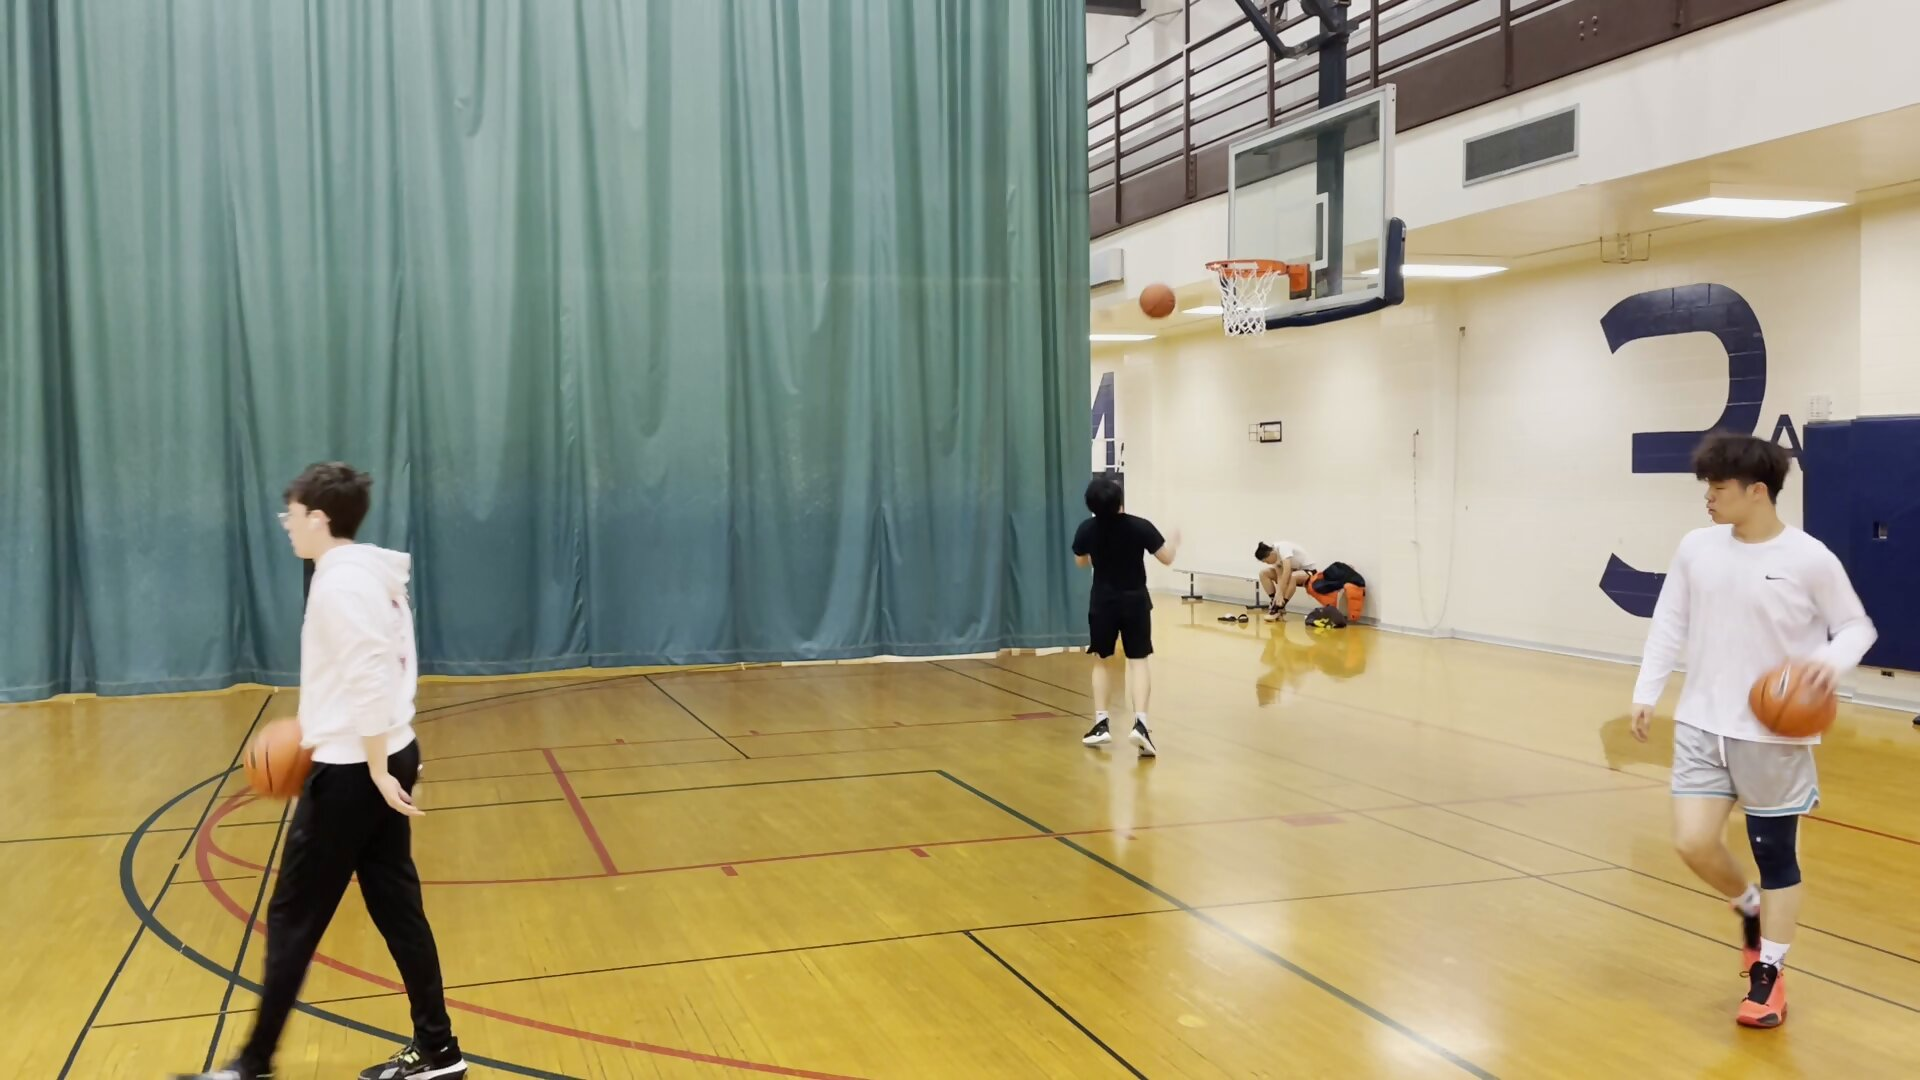ball: (1749, 658, 1844, 751), (245, 716, 325, 805), (1136, 279, 1177, 321)
net: (1215, 310, 1277, 341)
player: (220, 460, 491, 1080), (1638, 438, 1883, 1034), (1070, 469, 1174, 760), (1253, 534, 1321, 627)
rim: (1202, 251, 1288, 281)
